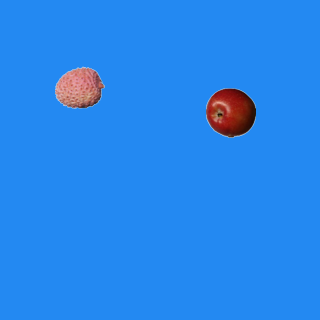Apple Braeburn: (205, 87, 255, 137)
Lychee: (54, 62, 104, 112)
